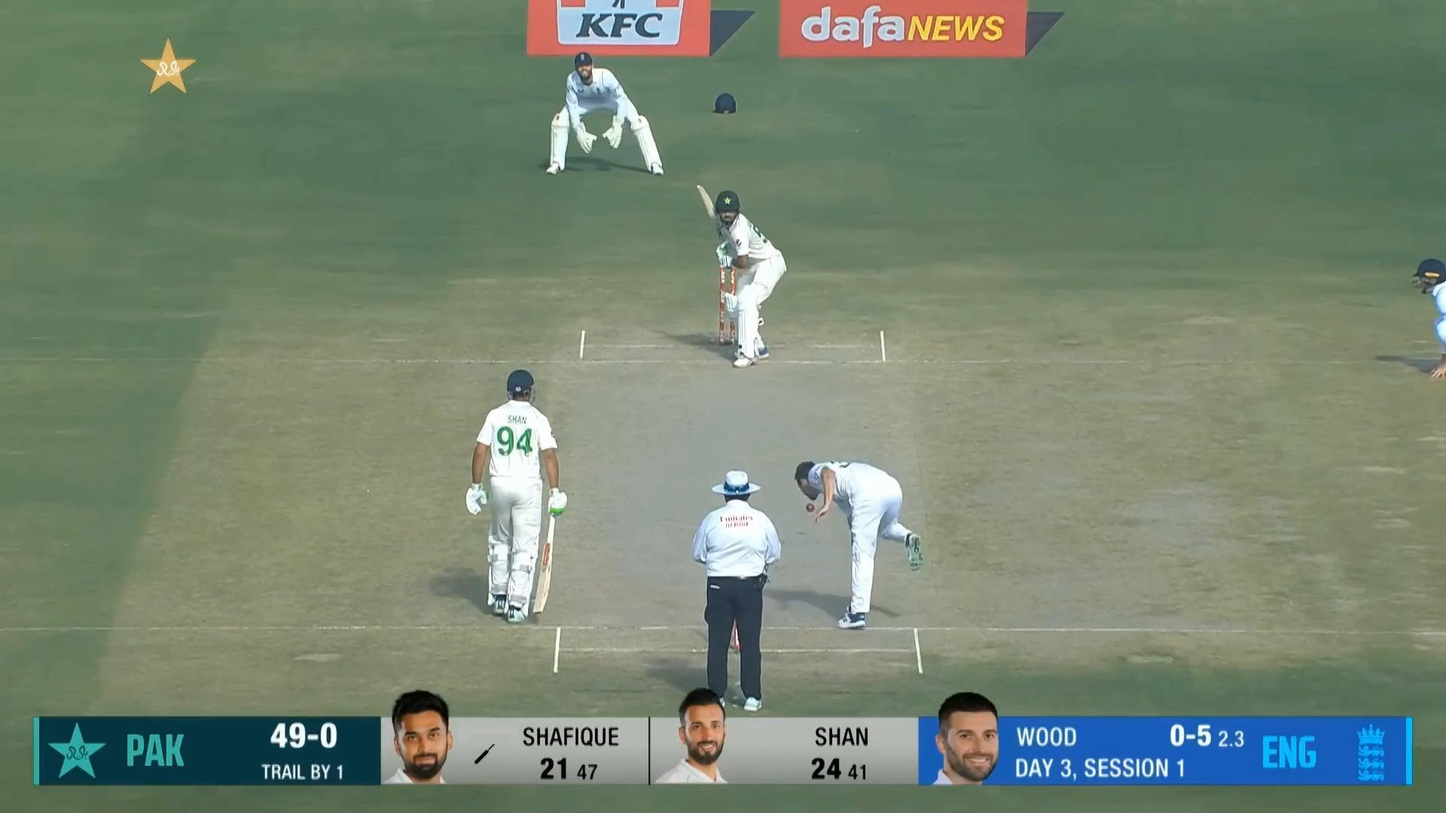BM 1: (696, 184, 789, 369)
BO: (795, 461, 924, 629)
